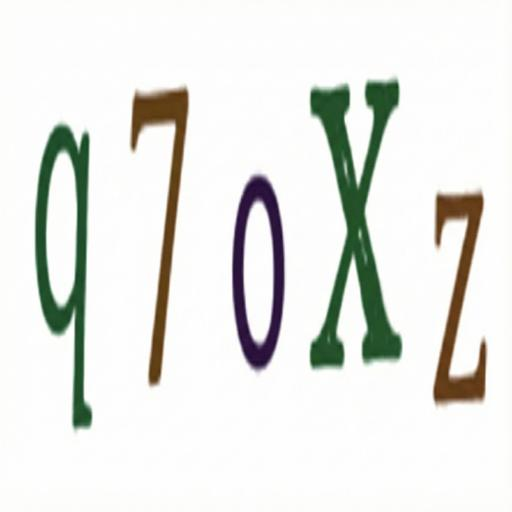7: (126, 86, 196, 390)
X: (306, 60, 404, 396)
o: (227, 166, 289, 374)
q: (32, 108, 98, 446)
z: (429, 168, 489, 410)
